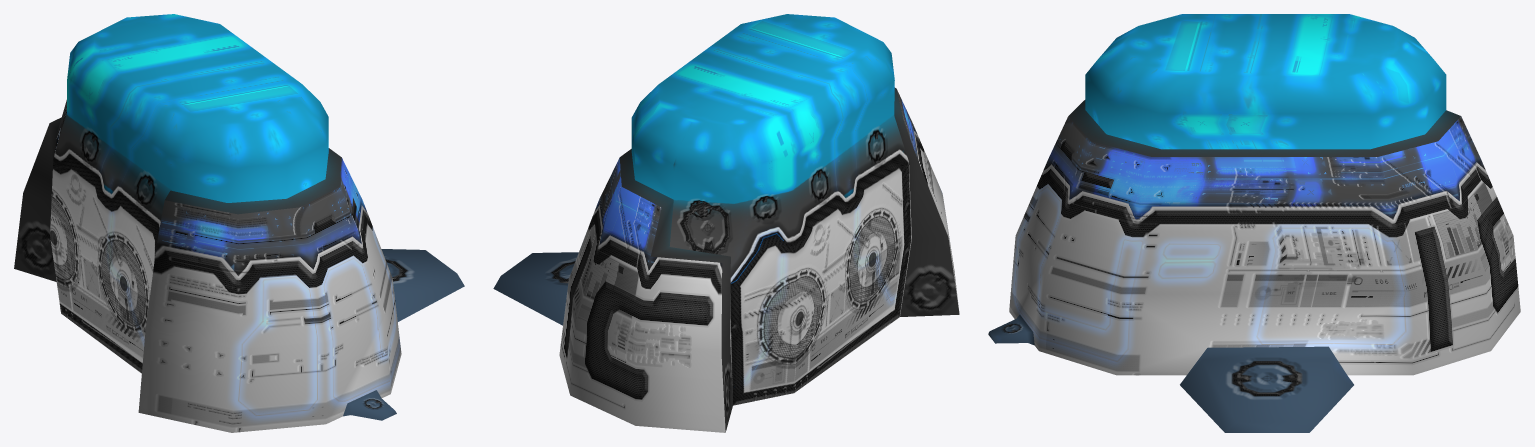
File: Fabrica Componentes avanzados.fbx
3 renders of one model, left to right at view 1: azimuth 30°, elevation 25°; view 2: azimuth 150°, elevation 25°; view 3: azimuth 270°, elevation 25°, orthographic.
Parts seen in each view (by area): view 1: FabCompAdv; view 2: FabCompAdv; view 3: FabCompAdv.
Part boxes in pixels (box(x1,y1,x2,y2)): FabCompAdv: box(14, 14, 464, 432); FabCompAdv: box(493, 14, 959, 432); FabCompAdv: box(988, 14, 1520, 432).
Bounding box in the file's own units: 3.09 × 2.07 × 3.76.
Materials: 1 (1 with a texture image).
